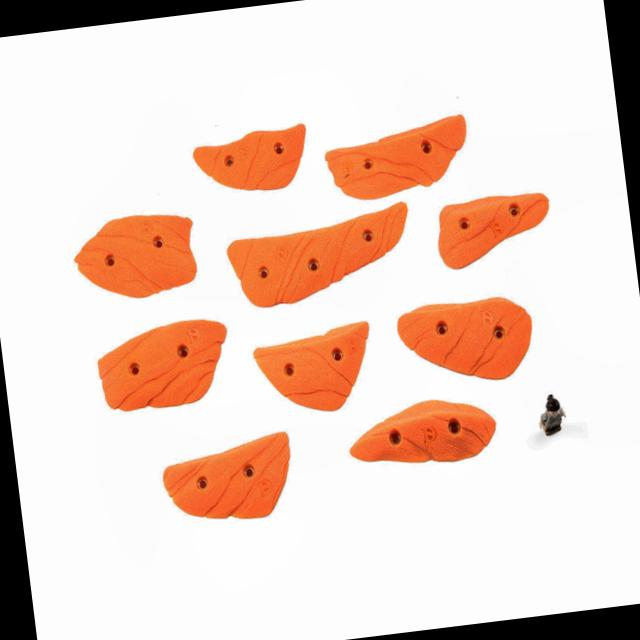Hold: (225, 206, 418, 316), (316, 104, 488, 218), (142, 424, 312, 534), (389, 284, 542, 395), (87, 312, 238, 421), (342, 388, 504, 478), (58, 203, 206, 301), (246, 324, 388, 424), (432, 183, 567, 284), (178, 122, 320, 203)
